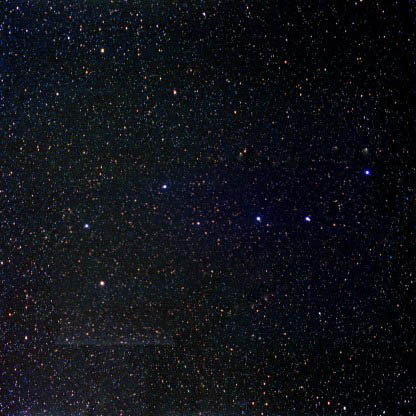Ursa Major: (94, 273, 122, 294), (151, 175, 173, 196), (299, 209, 318, 228), (250, 209, 268, 229), (76, 216, 95, 233), (361, 161, 375, 183)
